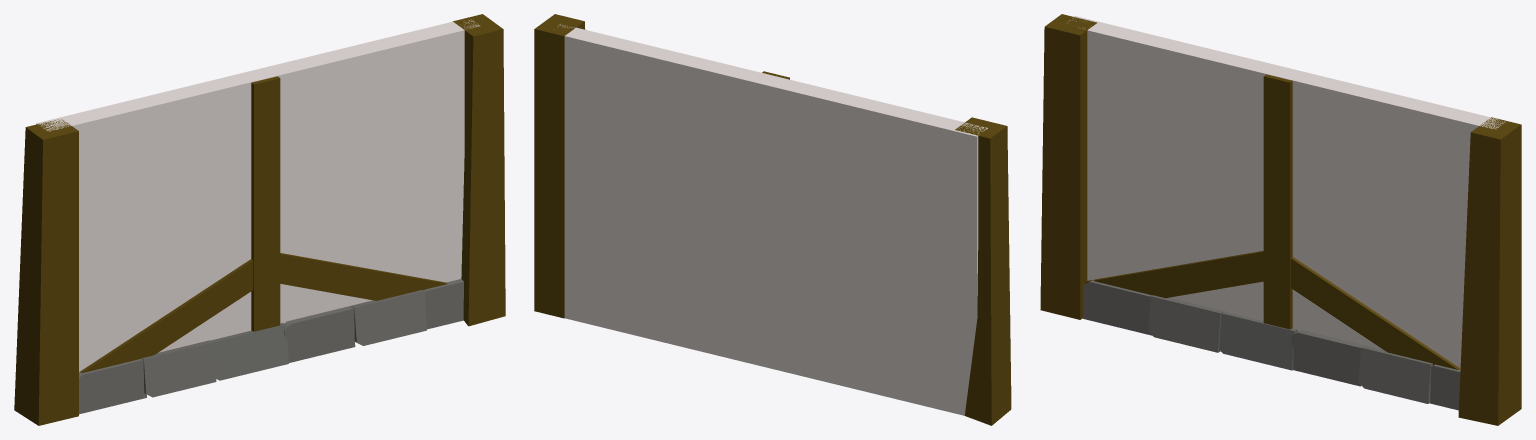
File: SM_SideWall2_LOD0.fbx
3 views of the same model, side by side, from view 1: azimuth 30°, elevation 25°; view 2: azimuth 150°, elevation 25°; view 3: azimuth 330°, elevation 25° (orthographic).
Parts seen in each view (by area): view 1: SM_SideWall2_LOD0; view 2: SM_SideWall2_LOD0; view 3: SM_SideWall2_LOD0.
Part boxes in pixels (x1=…): SM_SideWall2_LOD0: x1=14, y1=14, x2=505, y2=425; SM_SideWall2_LOD0: x1=534, y1=14, x2=1011, y2=425; SM_SideWall2_LOD0: x1=1040, y1=14, x2=1521, y2=425.
Bounding box in the file's own units: 12.83 × 7.54 × 1.32.
